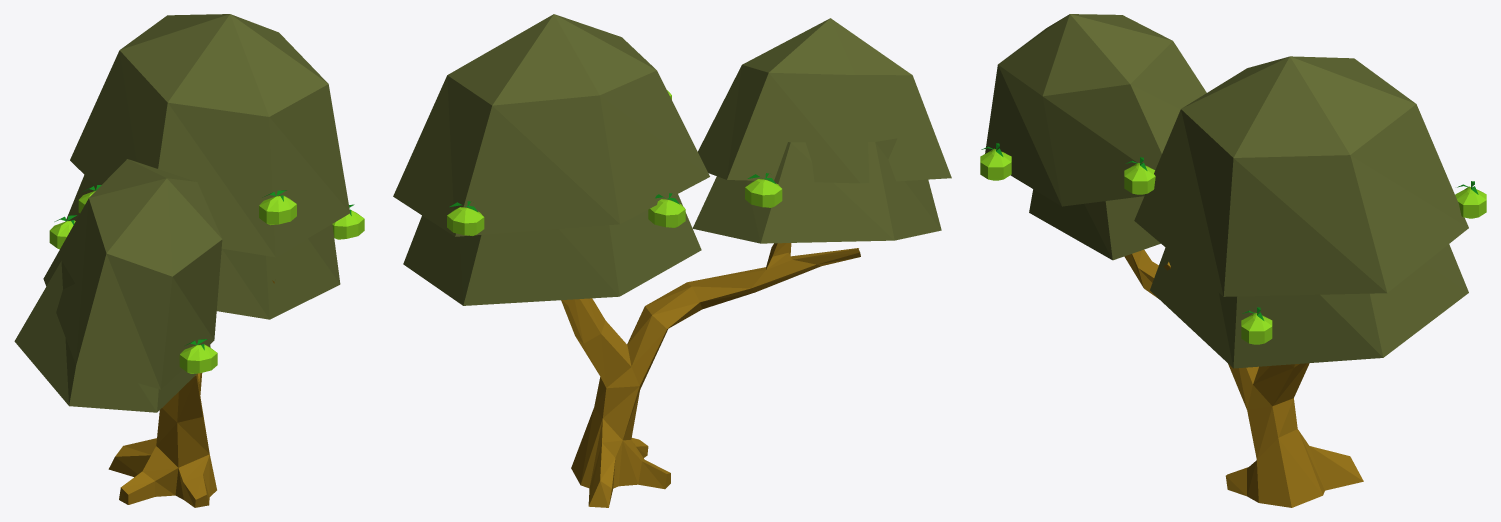
File: fruit-tree.gltf
3 views of the same model, side by side, from view 1: azimuth 30°, elevation 25°; view 2: azimuth 150°, elevation 25°; view 3: azimuth 270°, elevation 25° (orthographic). The views are drawn at different scales.
Size of the model in its own units: 237 by 261 by 260.
1 material, 1 textured.
